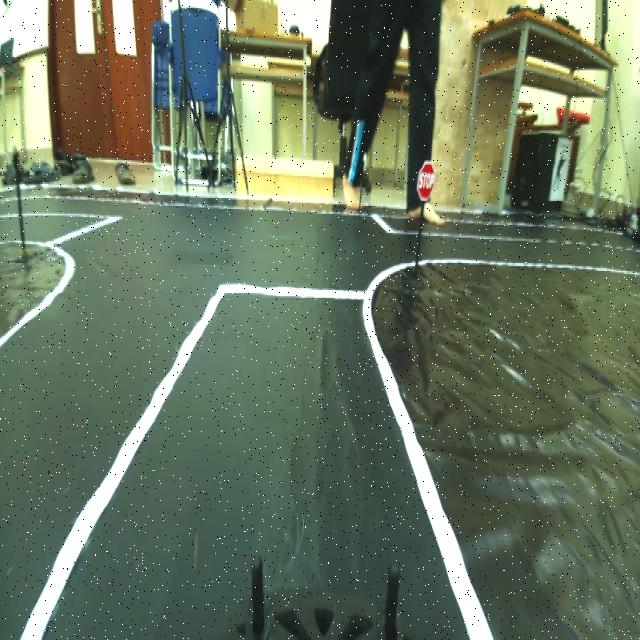stop: (416, 154, 437, 198)
